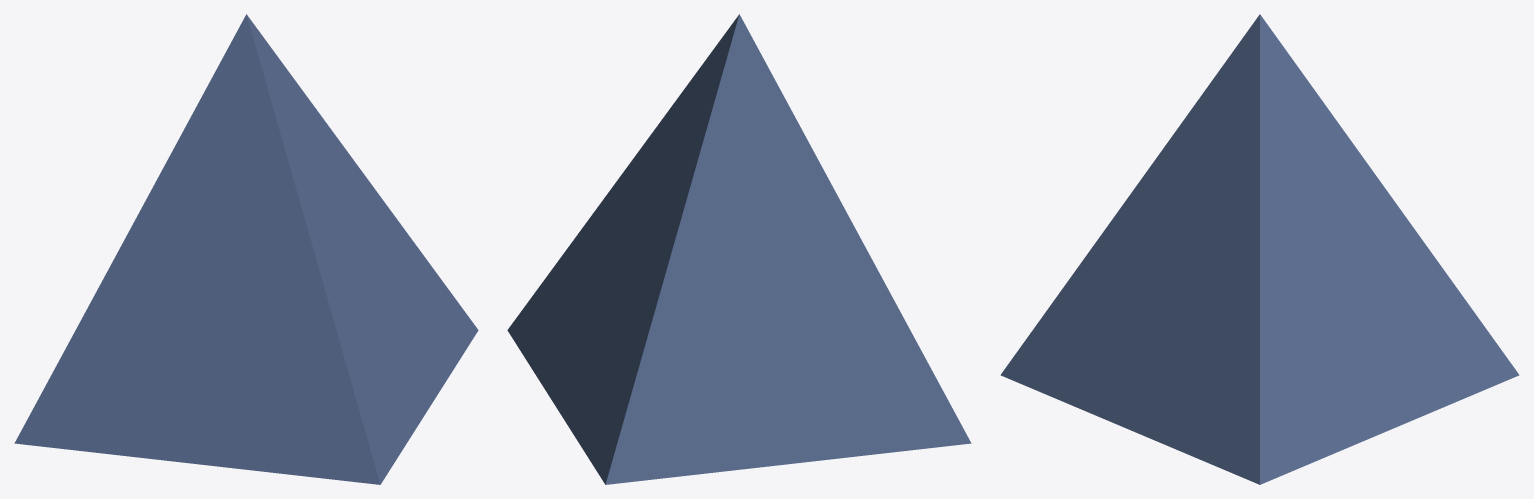
The model's file is pyramid_blocks.fbx.
3 renders of one model, left to right at view 1: azimuth 30°, elevation 25°; view 2: azimuth 150°, elevation 25°; view 3: azimuth 270°, elevation 25°, orthographic. The views are drawn at different scales.
Visible parts, largest first — view 1: pPyramid1; view 2: pPyramid1; view 3: pPyramid1.
Boxes of the visible parts, box(x1,y1,x2,y2) form: pPyramid1: box(14, 14, 478, 484); pPyramid1: box(507, 14, 971, 484); pPyramid1: box(1000, 14, 1519, 484).
Size of the model in its own units: 4.17 by 3.2 by 4.17.
